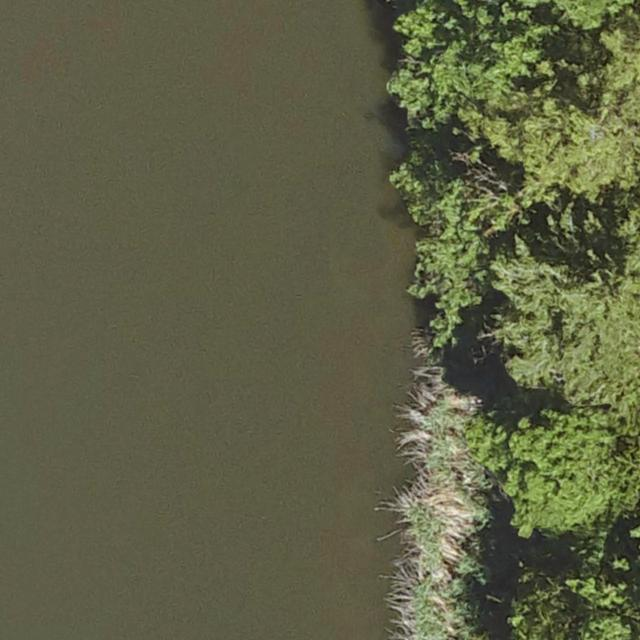tree: (374, 0, 640, 186), (489, 231, 640, 392), (493, 410, 640, 540), (506, 552, 640, 640)
